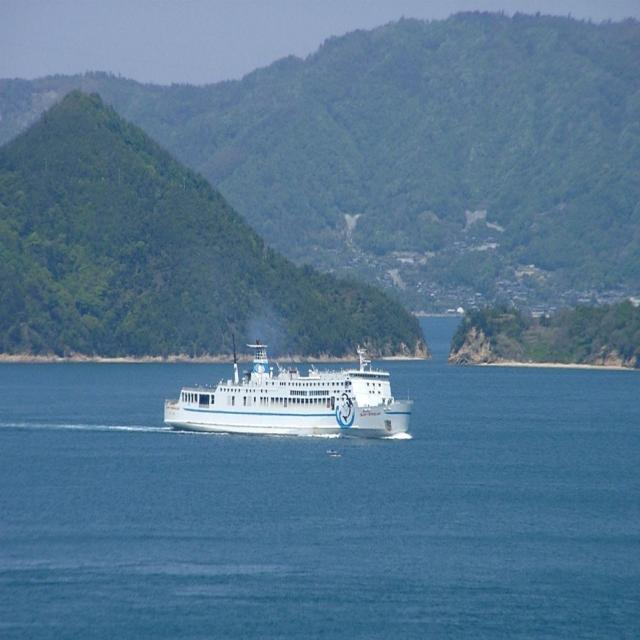passenger ship: (174, 343, 405, 458)
